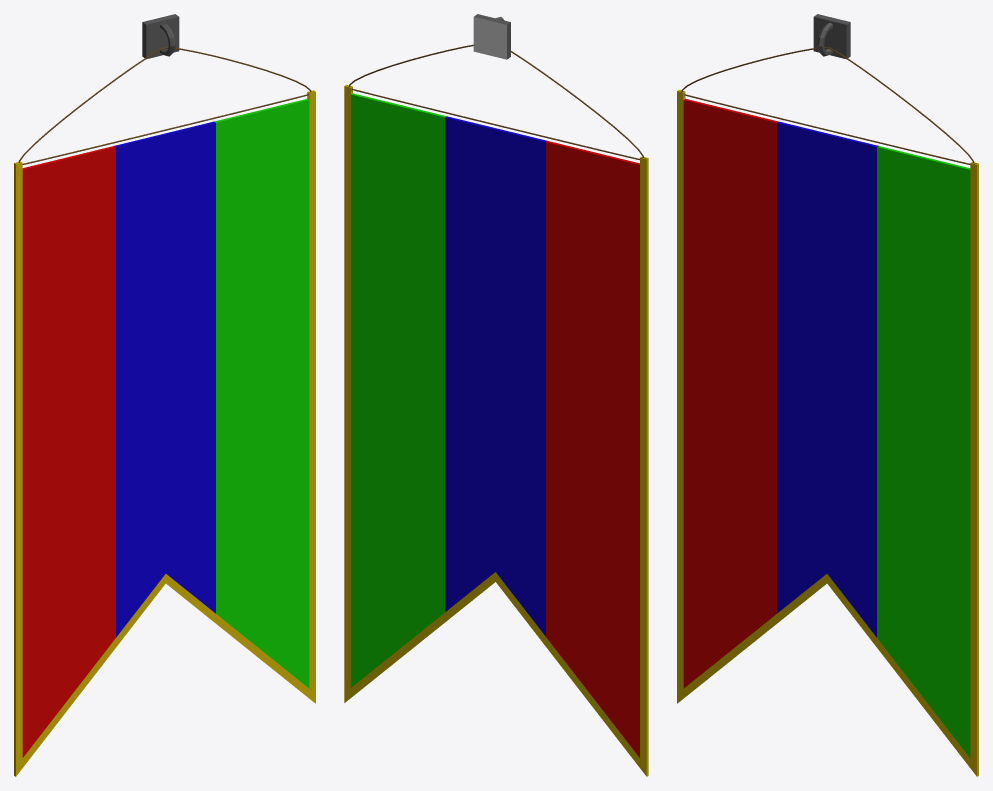
The model's file is flag.fbx.
3 renders of one model, left to right at view 1: azimuth 30°, elevation 25°; view 2: azimuth 150°, elevation 25°; view 3: azimuth 330°, elevation 25°, orthographic.
Parts seen in each view (by area): view 1: Cube; view 2: Cube; view 3: Cube.
Boxes of the visible parts, <box> form: Cube: <box>14,14,315,776</box>; Cube: <box>344,14,648,776</box>; Cube: <box>677,14,978,776</box>.
Size of the model in its own units: 140 by 320 by 12.14.
